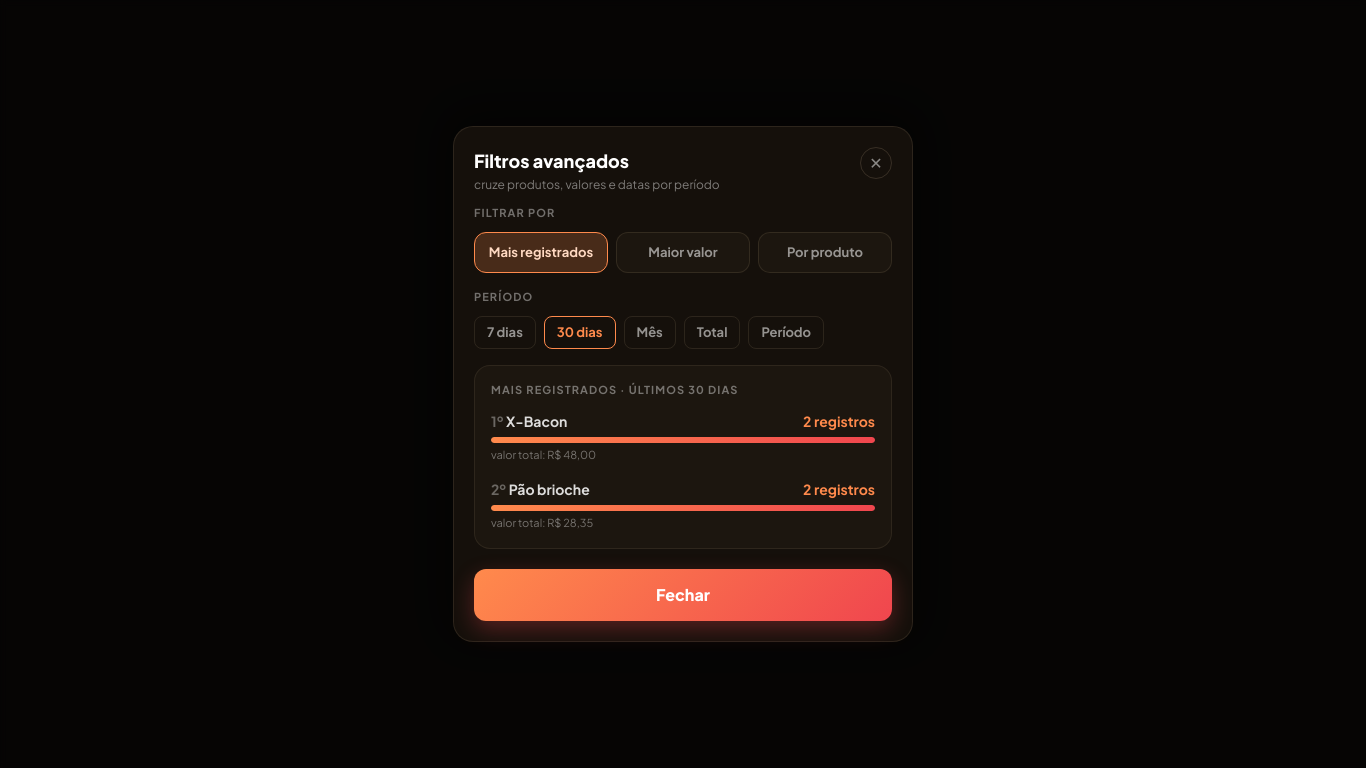
Scenario: FiltrosModal › troca para "Maior valor" e destaca o maior registro individual
Click the button "Maior valor": (683, 253) [616, 232, 750, 273]
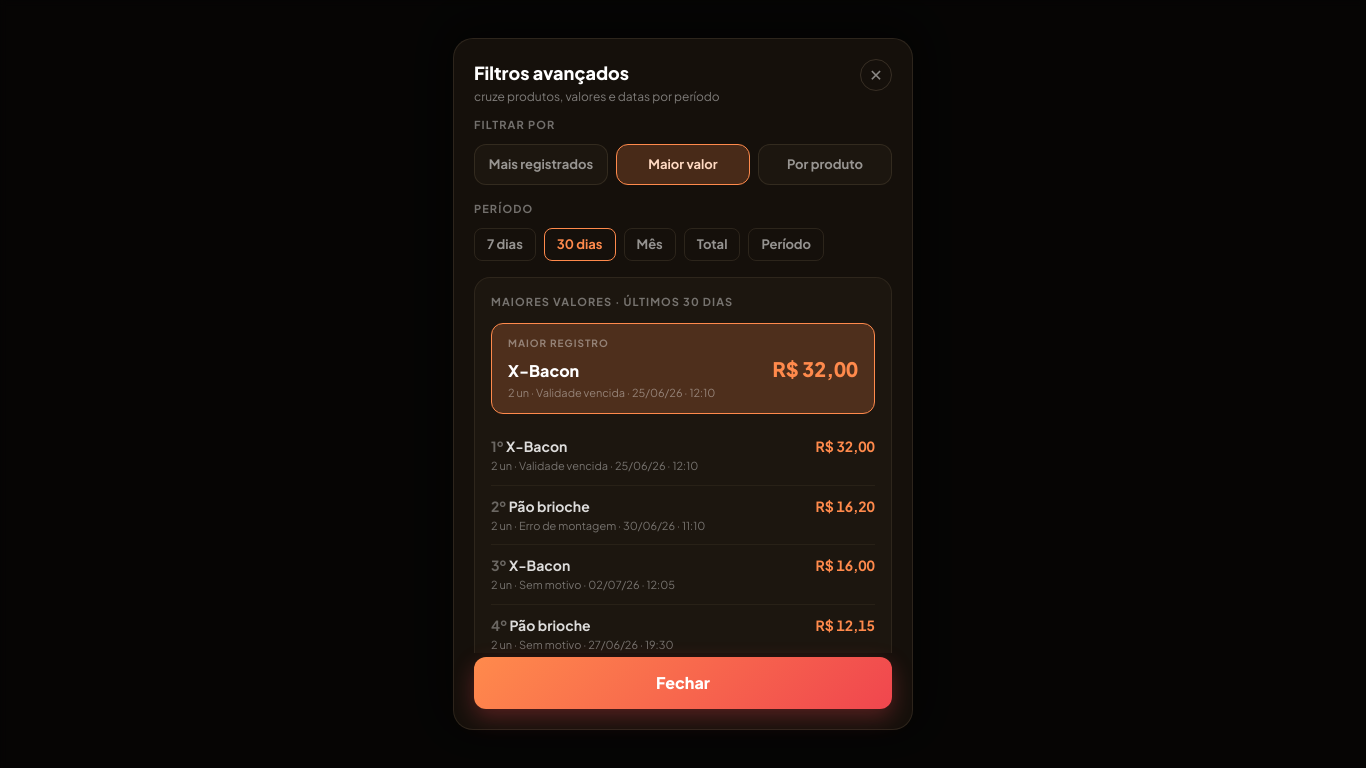
Expected: the text "Maior registro" is shown, [508, 337, 609, 349]
Expected: the text "R$ 32,00" below "Maior registro" is shown, [772, 356, 858, 381]
Expected: the text "2 un · Validade vencida · 25/06/26 · 12:10" below "Maior registro" is shown, [508, 386, 715, 399]
